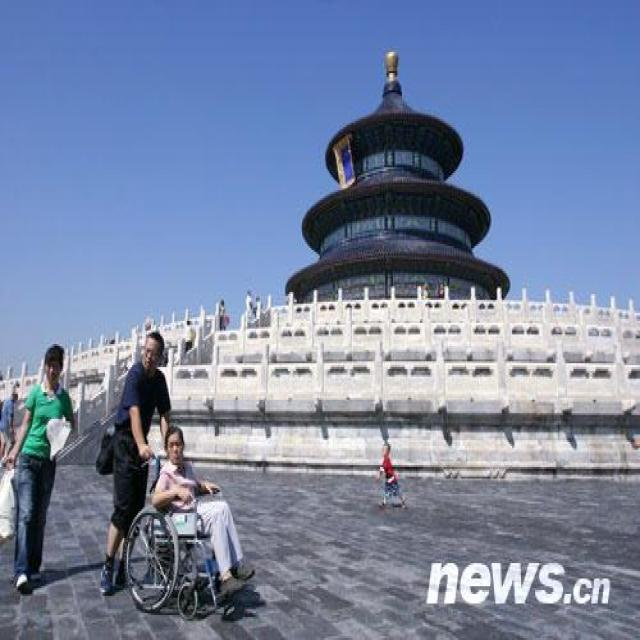wheelchairs: (116, 476, 261, 630)
